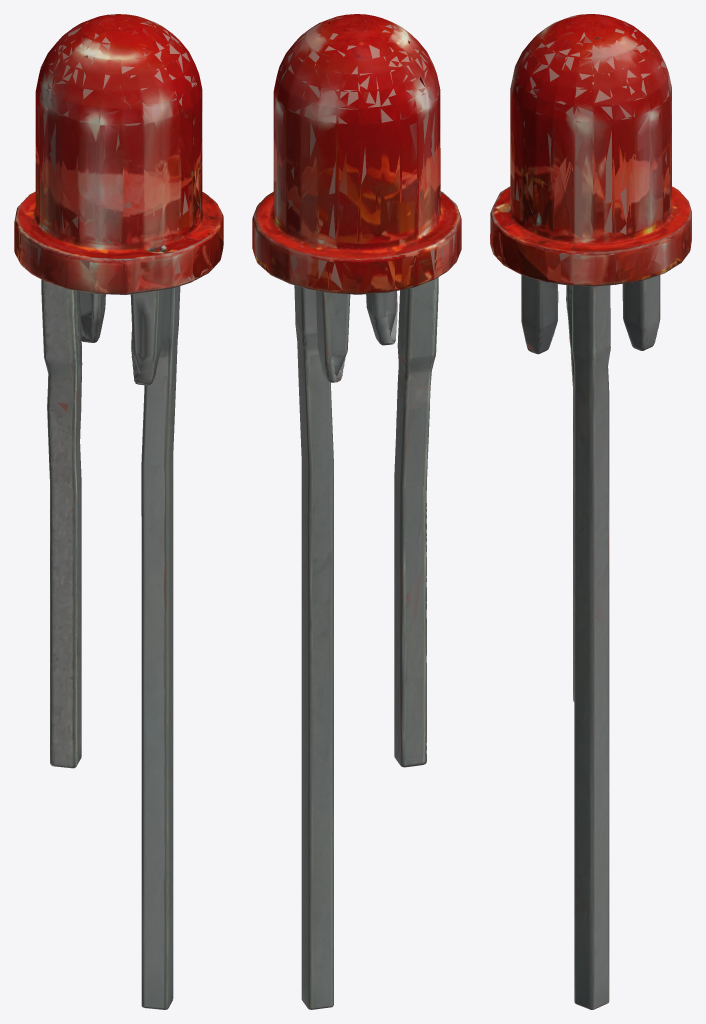
The model's file is led-5mm-red.glb.
3 views of the same model, side by side, from view 1: azimuth 30°, elevation 25°; view 2: azimuth 150°, elevation 25°; view 3: azimuth 270°, elevation 25° (orthographic). The views are drawn at different scales.
Visible parts, largest first — view 1: led_body; view 2: led_body; view 3: led_body.
Part boxes in pixels (bbox=[...]): led_body: bbox=[14, 14, 223, 1009]; led_body: bbox=[252, 14, 461, 1009]; led_body: bbox=[490, 14, 691, 1009].
Bounding box in the file's own units: 0.00496 × 0.0261 × 0.00496.
1 material, 1 textured.
